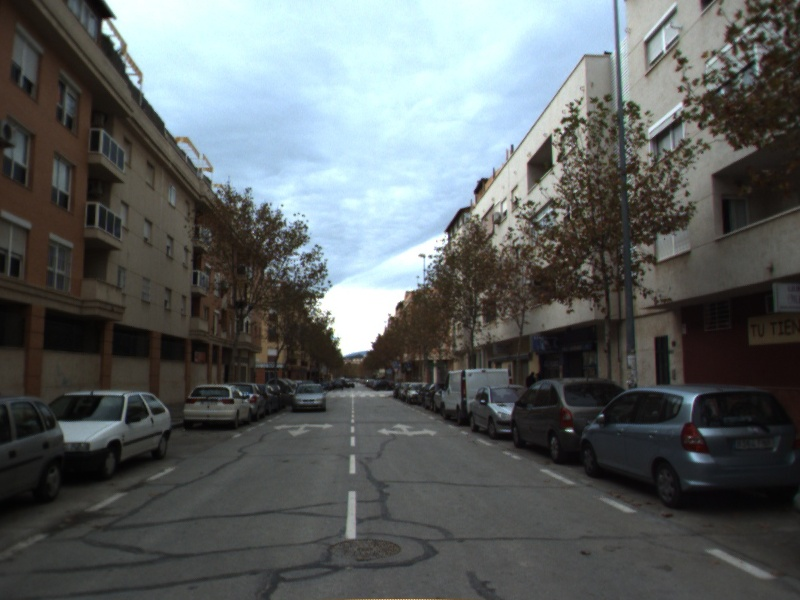STRAIGHT_LEFT_RIGHT: (375, 421, 439, 438)
